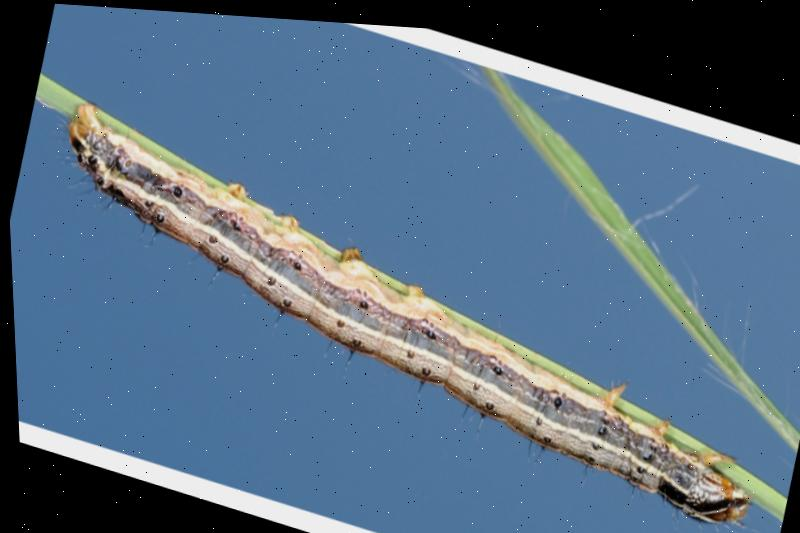fall-armyworm: (67, 103, 747, 514)
